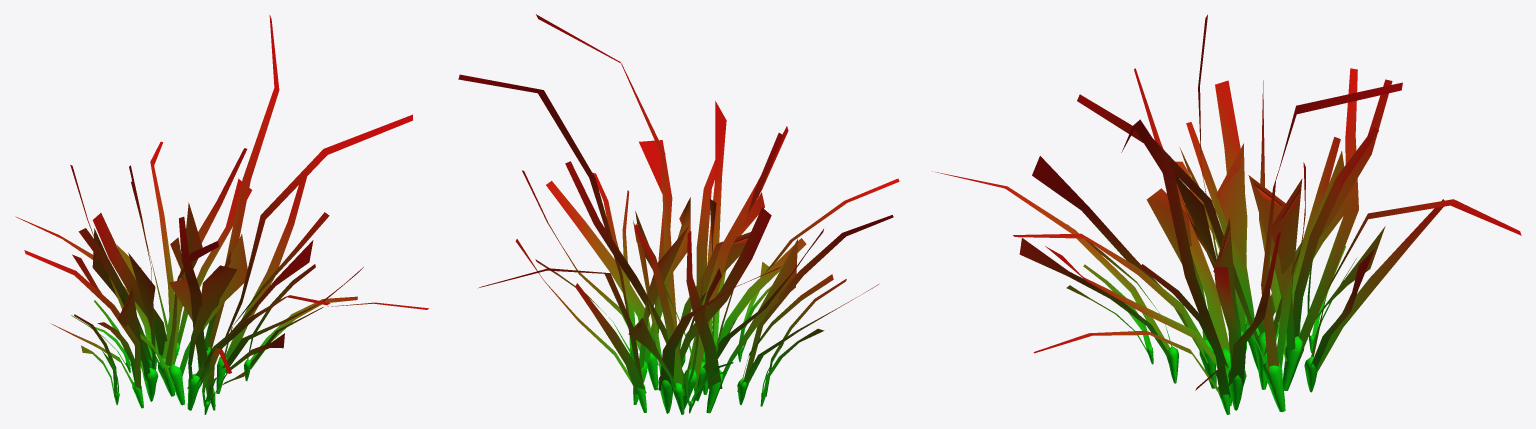
The model's file is Var4.fbx.
3 renders of one model, left to right at view 1: azimuth 30°, elevation 25°; view 2: azimuth 150°, elevation 25°; view 3: azimuth 270°, elevation 25°, orthographic. The views are drawn at different scales.
Visible parts, largest first — view 1: Var4; view 2: Var4; view 3: Var4.
Part boxes in pixels (x1,y1,x2,y2): Var4: [15, 15, 428, 414]; Var4: [458, 14, 899, 414]; Var4: [932, 14, 1521, 414].
Size of the model in its own units: 43.61 by 35.89 by 47.85.
